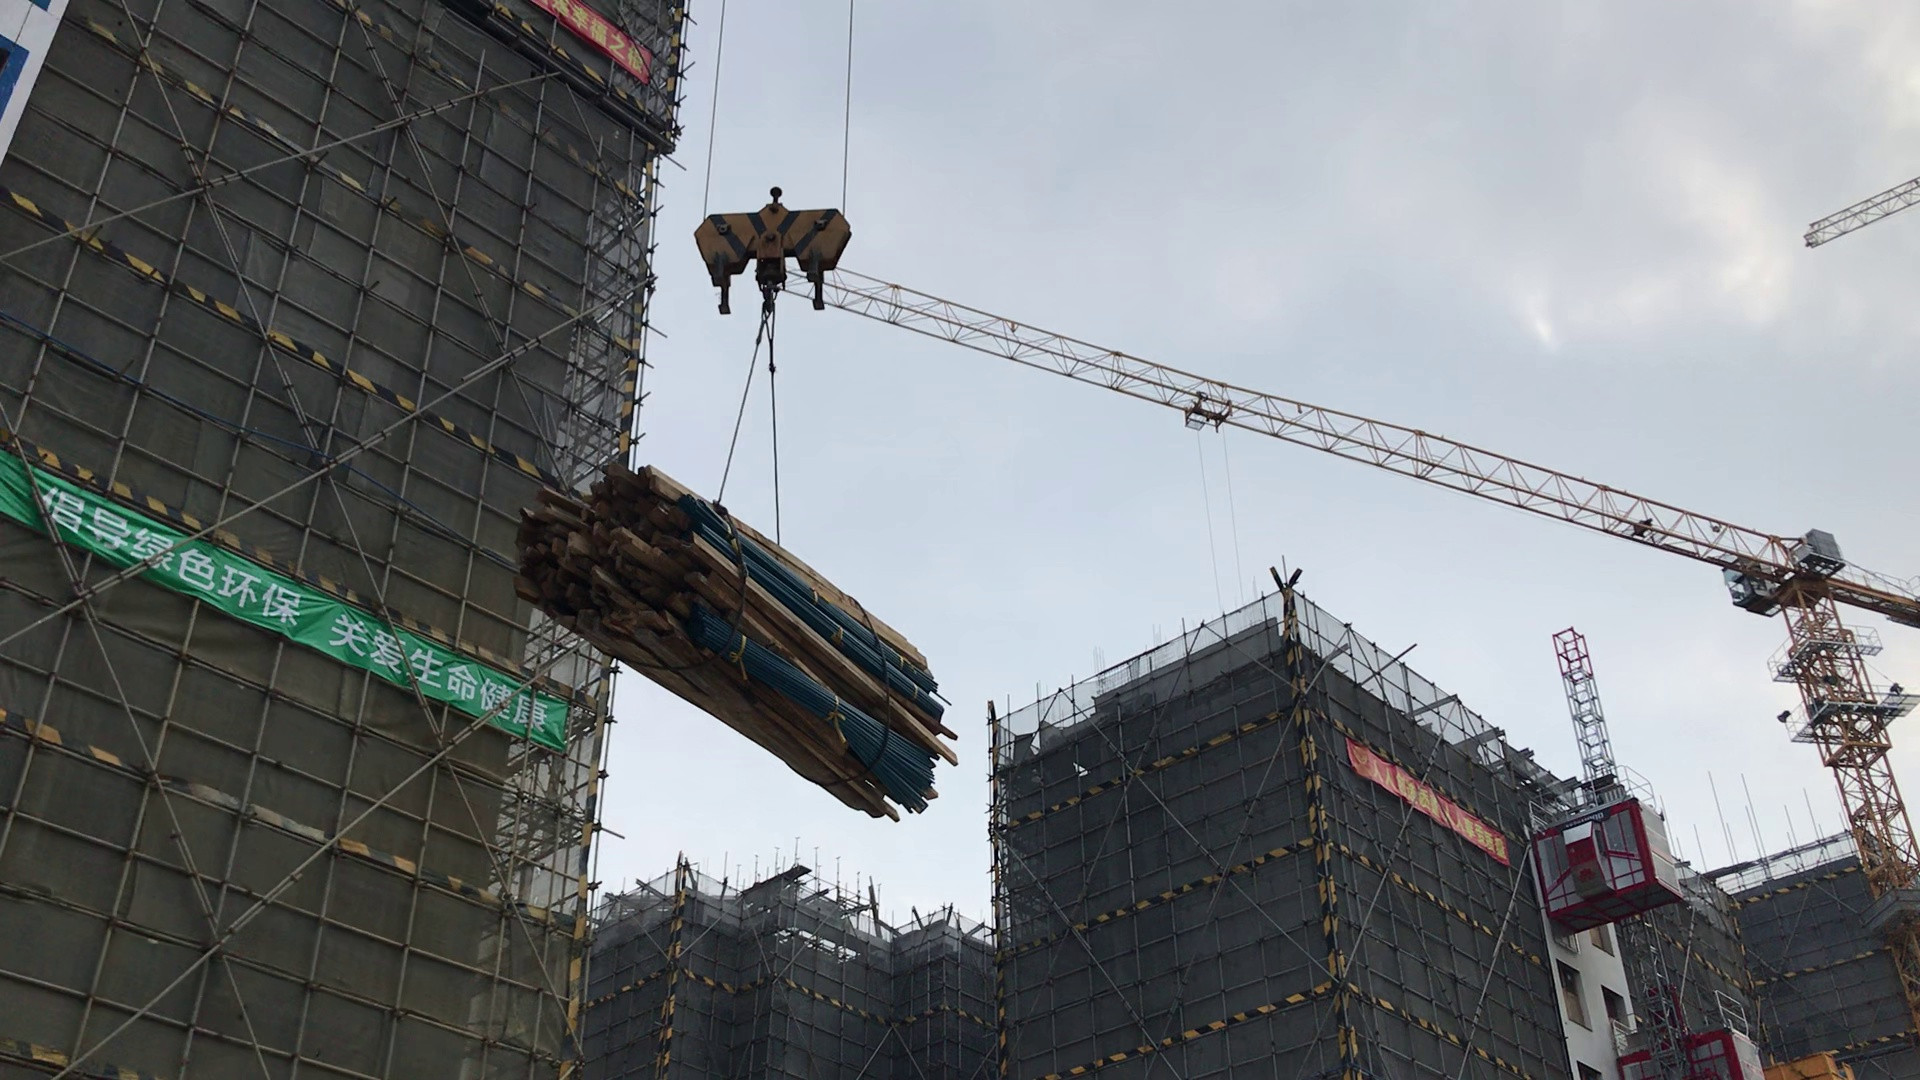hook: (671, 173, 880, 349)
slogan: (3, 454, 580, 800), (1331, 735, 1520, 880)
wood: (504, 448, 976, 861)
